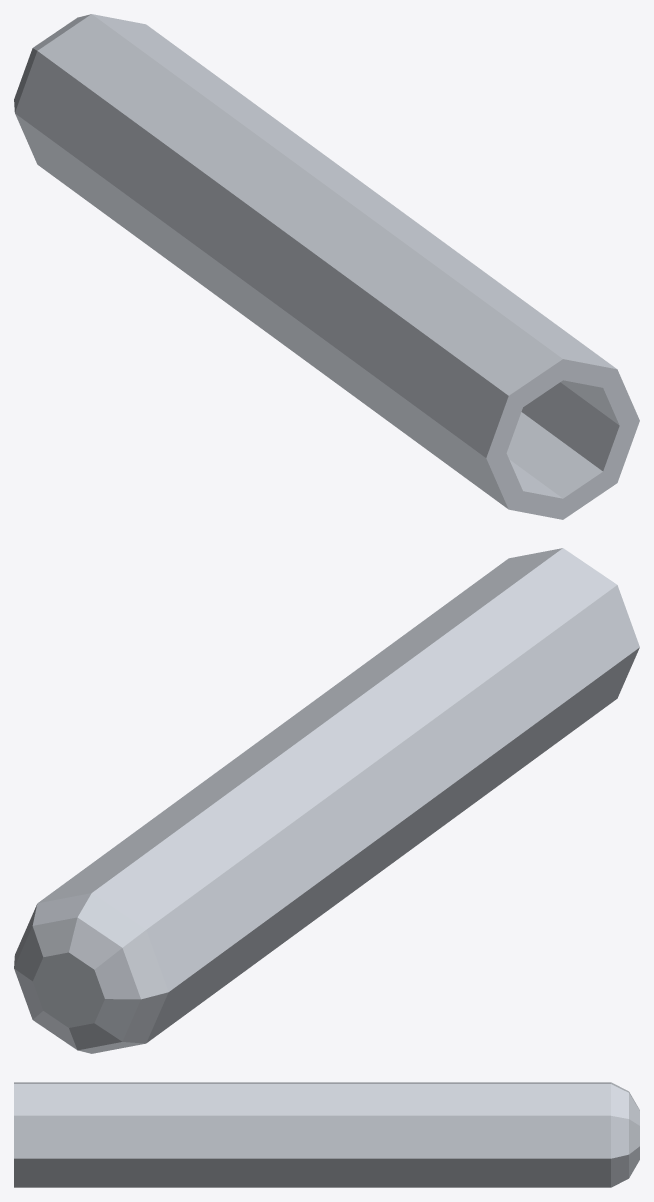
File: bottle_glassware_test_tube_medium.obj
3 views of the same model, one above another, from view 1: azimuth 30°, elevation 25°; view 2: azimuth 150°, elevation 25°; view 3: azimuth 270°, elevation 25° (orthographic). The views are drawn at different scales.
Visible parts, largest first — view 1: Cylinder.525; view 2: Cylinder.525; view 3: Cylinder.525.
Part boxes in pixels (left/top/right/bottom): Cylinder.525: left=14, top=14, right=639, bottom=519; Cylinder.525: left=14, top=548, right=639, bottom=1053; Cylinder.525: left=14, top=1082, right=639, bottom=1187.
Bounding box in the file's own units: 0.0303 × 0.0303 × 0.1686.
1 material, 1 textured.
